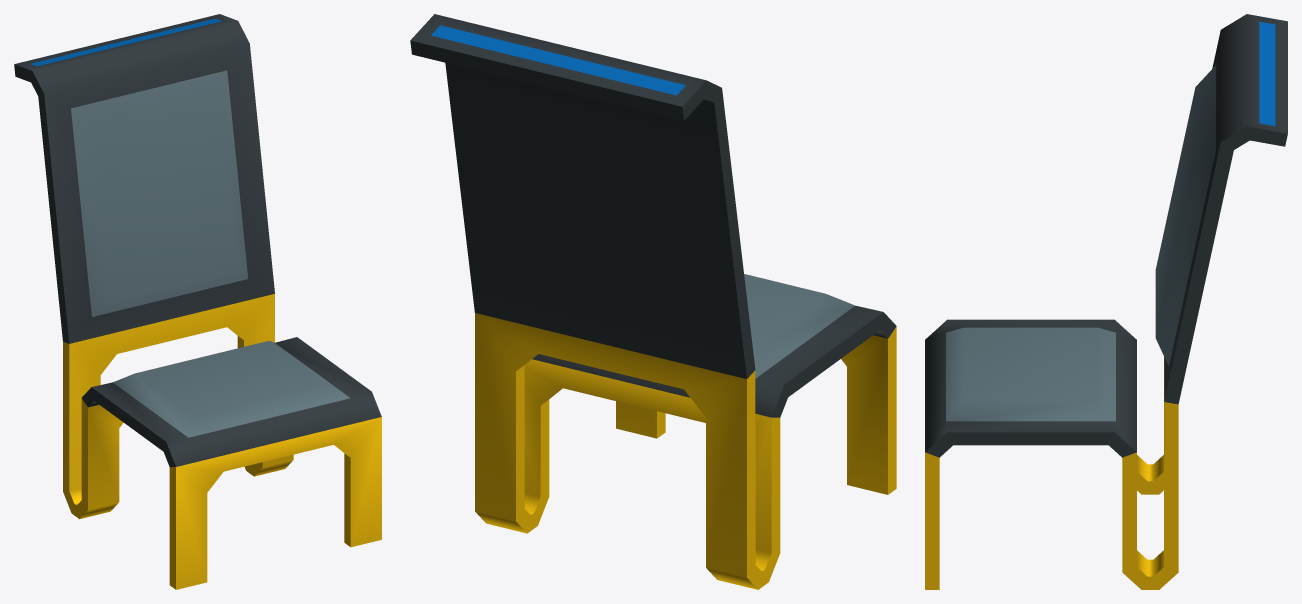
File: Chair_011.fbx
3 renders of one model, left to right at view 1: azimuth 30°, elevation 25°; view 2: azimuth 150°, elevation 25°; view 3: azimuth 270°, elevation 25°, orthographic. The views are drawn at different scales.
Parts seen in each view (by area): view 1: Chair_011; view 2: Chair_011; view 3: Chair_011.
Part boxes in pixels (<box>): Chair_011: <box>14,14,381,589</box>; Chair_011: <box>410,14,896,589</box>; Chair_011: <box>925,14,1287,589</box>.
Size of the model in its own units: 65.81 by 89.77 by 126.
